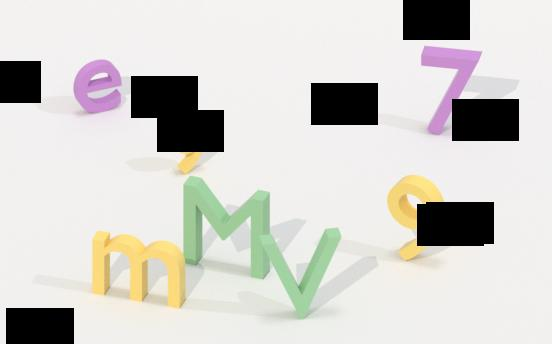7: (419, 42, 484, 142)
9: (386, 172, 446, 268), (168, 119, 210, 177)
M-hoa: (185, 176, 278, 277)
e: (73, 56, 125, 114)
m: (91, 233, 189, 313)
v: (256, 223, 341, 323)
